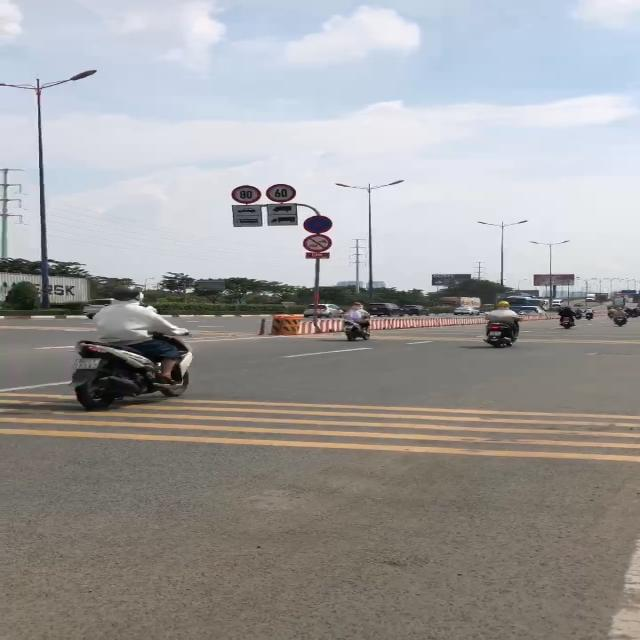Bien bao toc do toi da cho phep: (264, 182, 298, 204), (230, 184, 262, 204)
